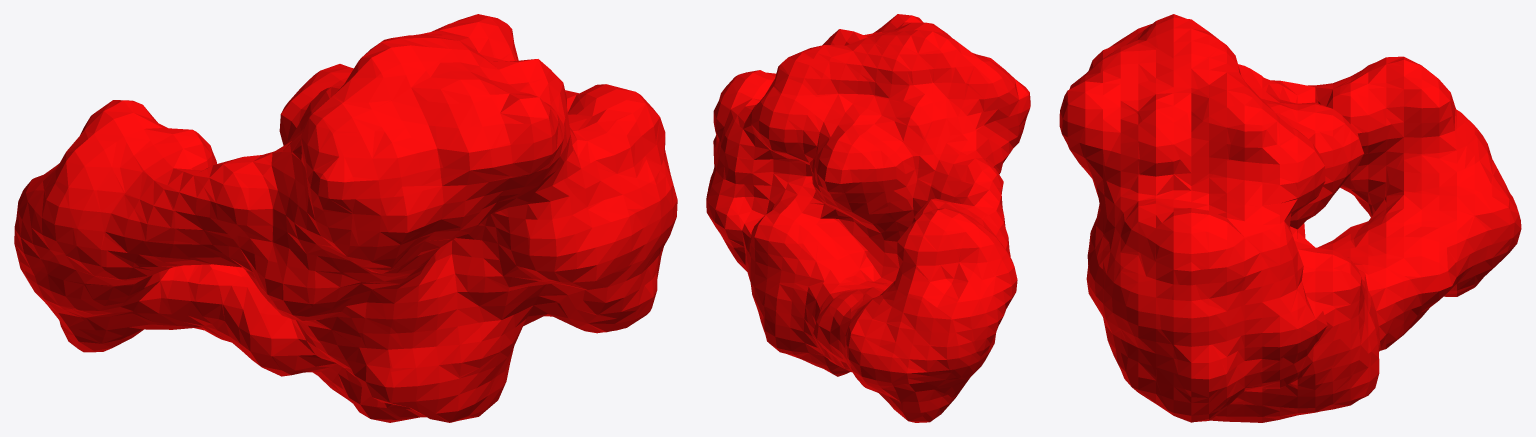
The model's file is topB_coarse.dae.
3 renders of one model, left to right at view 1: azimuth 30°, elevation 25°; view 2: azimuth 150°, elevation 25°; view 3: azimuth 270°, elevation 25°, orthographic. The views are drawn at different scales.
Parts seen in each view (by area): view 1: topB; view 2: topB; view 3: topB.
Boxes of the visible parts, <box> form: topB: <box>14,14,677,422</box>; topB: <box>706,14,1030,422</box>; topB: <box>1059,14,1521,422</box>.
Size of the model in its own units: 90.76 by 70.75 by 79.74.
